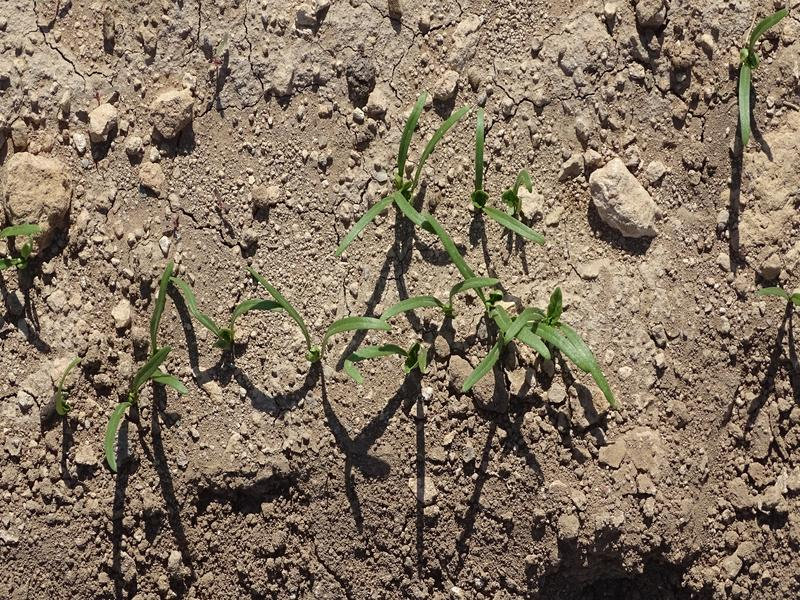Espinaca: (326, 272, 621, 410), (342, 107, 543, 256), (149, 258, 311, 334), (97, 345, 186, 466), (736, 8, 788, 144), (2, 222, 40, 242)
